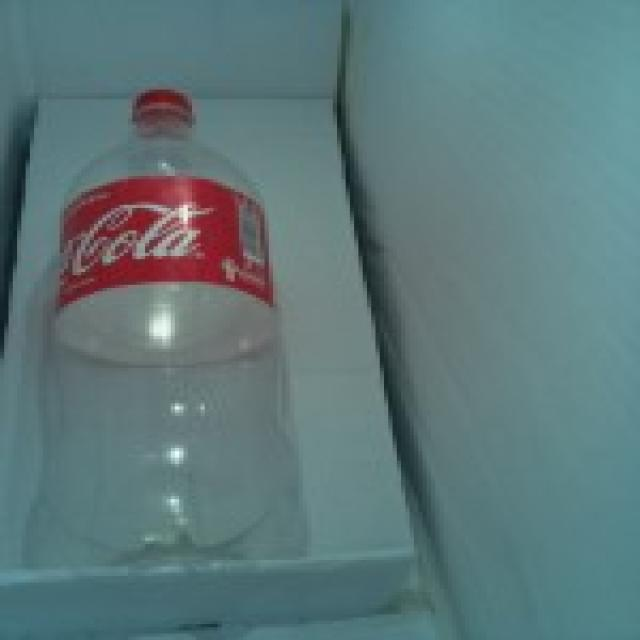good: (36, 81, 324, 582)
